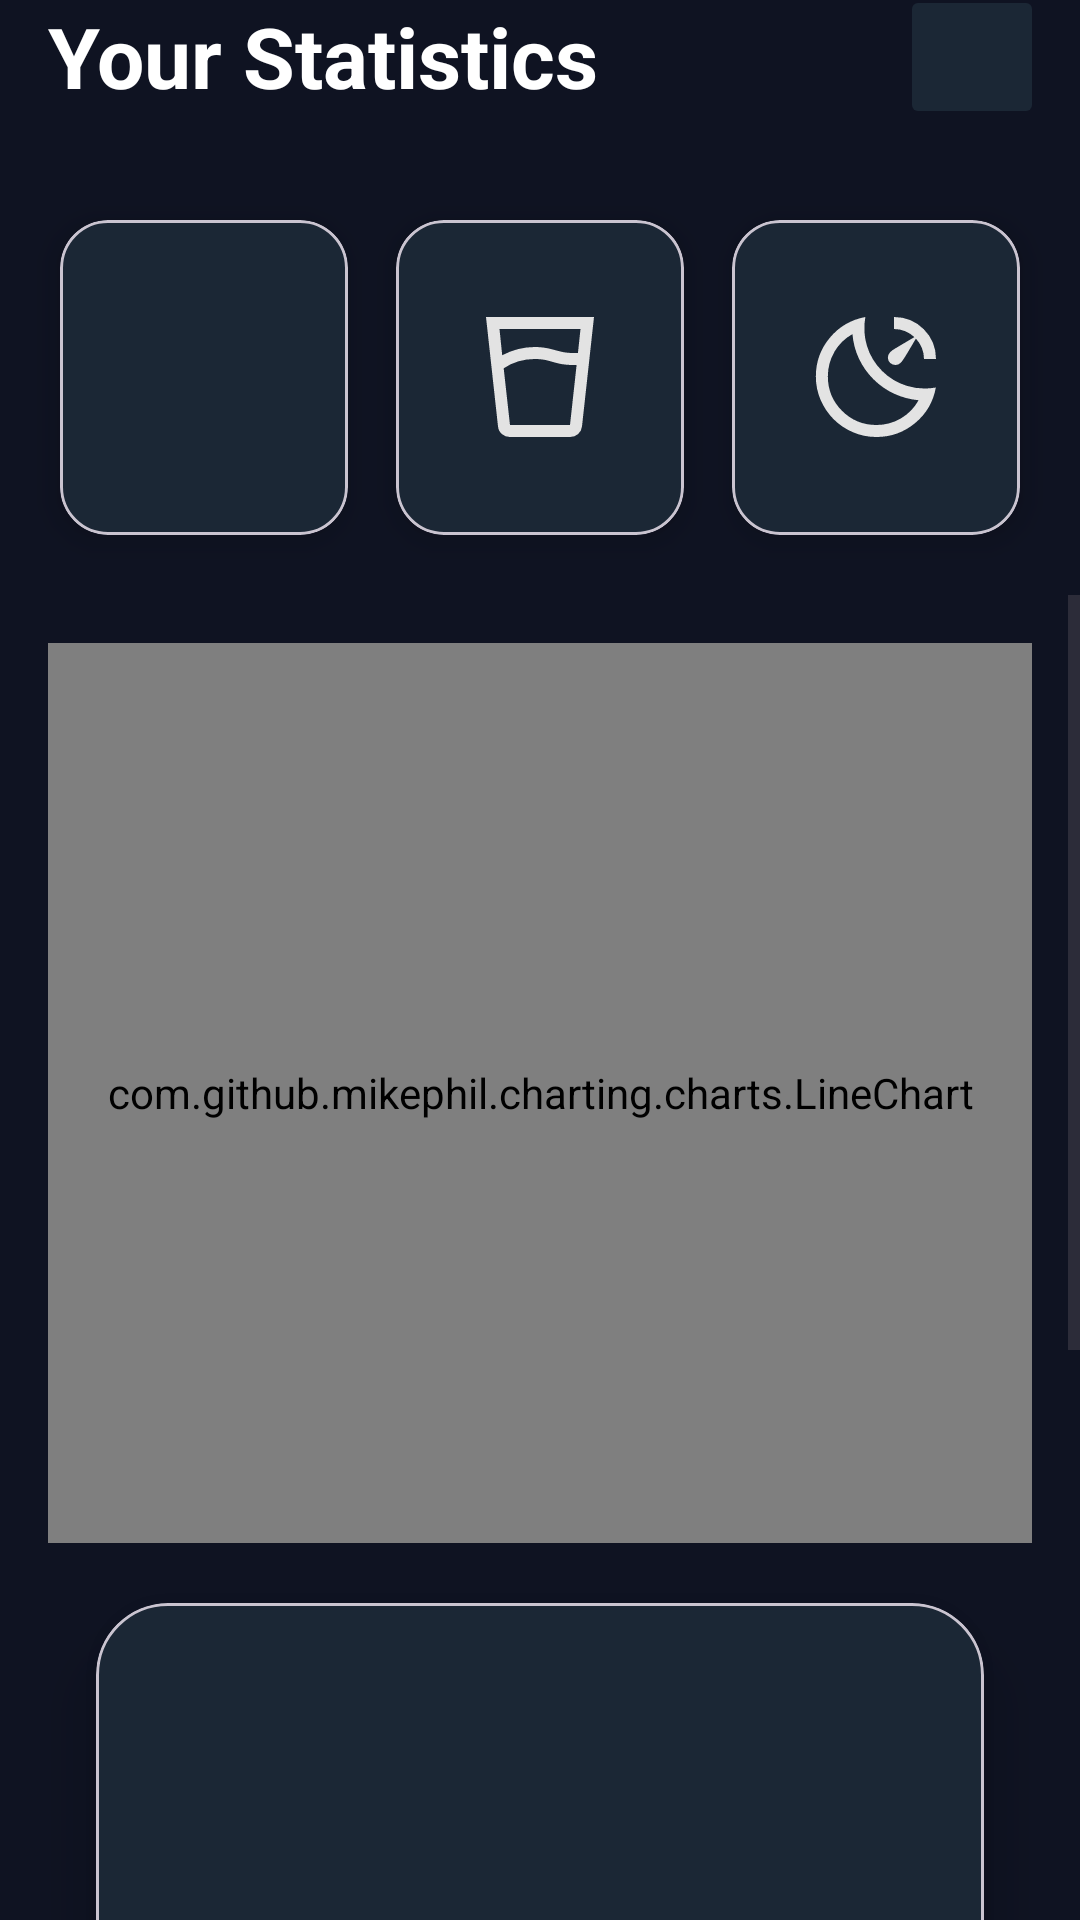

Icons on this 1080 x 1920 Android screen, each with the point to tap as [x,y]:
sleep: [875,377]
water: [540,377]
